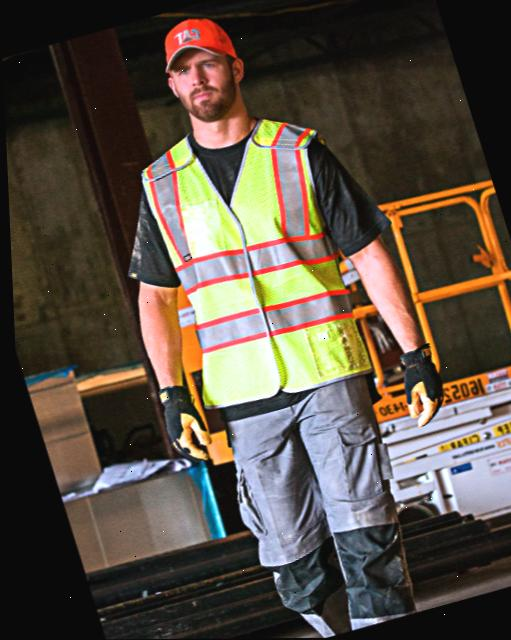vest: (123, 111, 392, 418)
